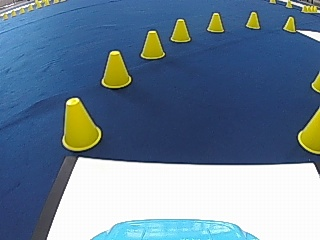cone: (61, 97, 101, 151), (101, 49, 132, 88), (297, 106, 319, 153), (140, 30, 165, 59), (170, 18, 191, 43), (207, 12, 224, 33), (245, 11, 260, 29), (310, 69, 319, 93), (283, 16, 296, 32)
